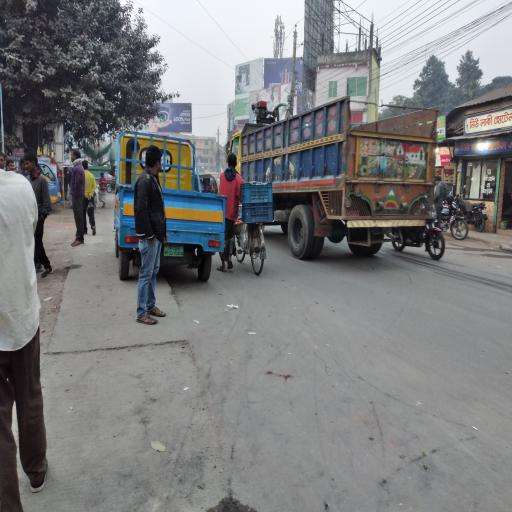auto rickshaw: (192, 174, 221, 194), (107, 170, 116, 193)
bicycle: (231, 208, 271, 280)
motorbike: (388, 228, 450, 262), (437, 194, 470, 242), (454, 188, 489, 233)
pickup: (118, 127, 227, 289), (38, 160, 63, 204)
truck: (230, 108, 438, 257)
